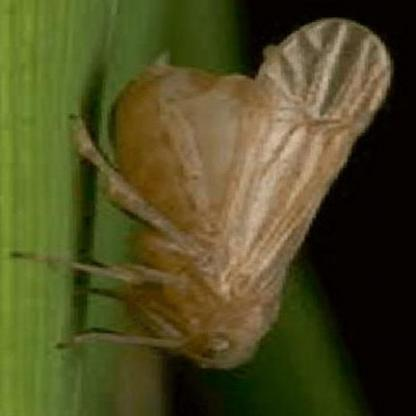brown-planthopper: (112, 13, 387, 372)
